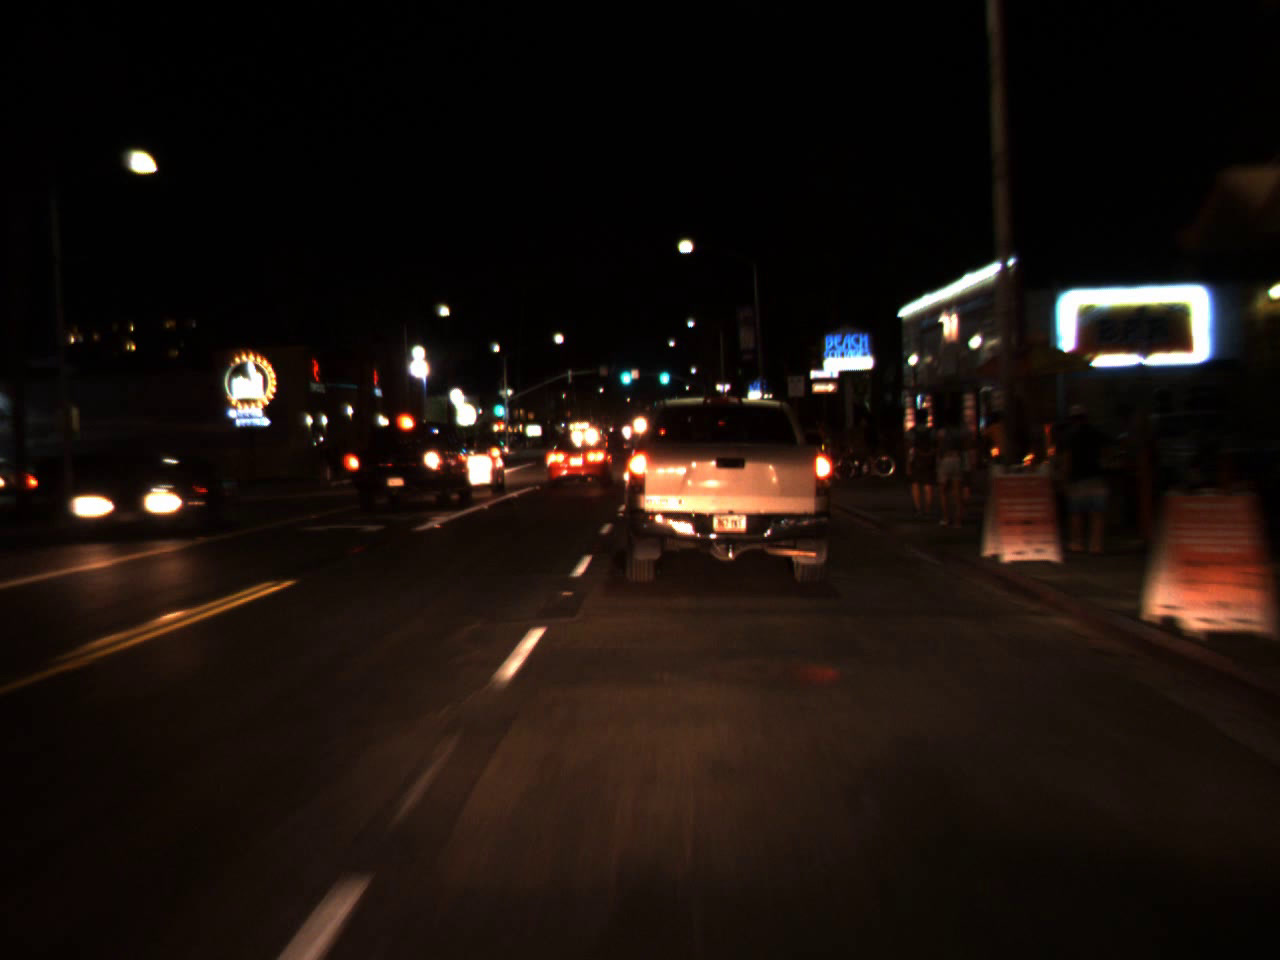go: (615, 356, 634, 389), (655, 356, 671, 389), (492, 391, 506, 421)
